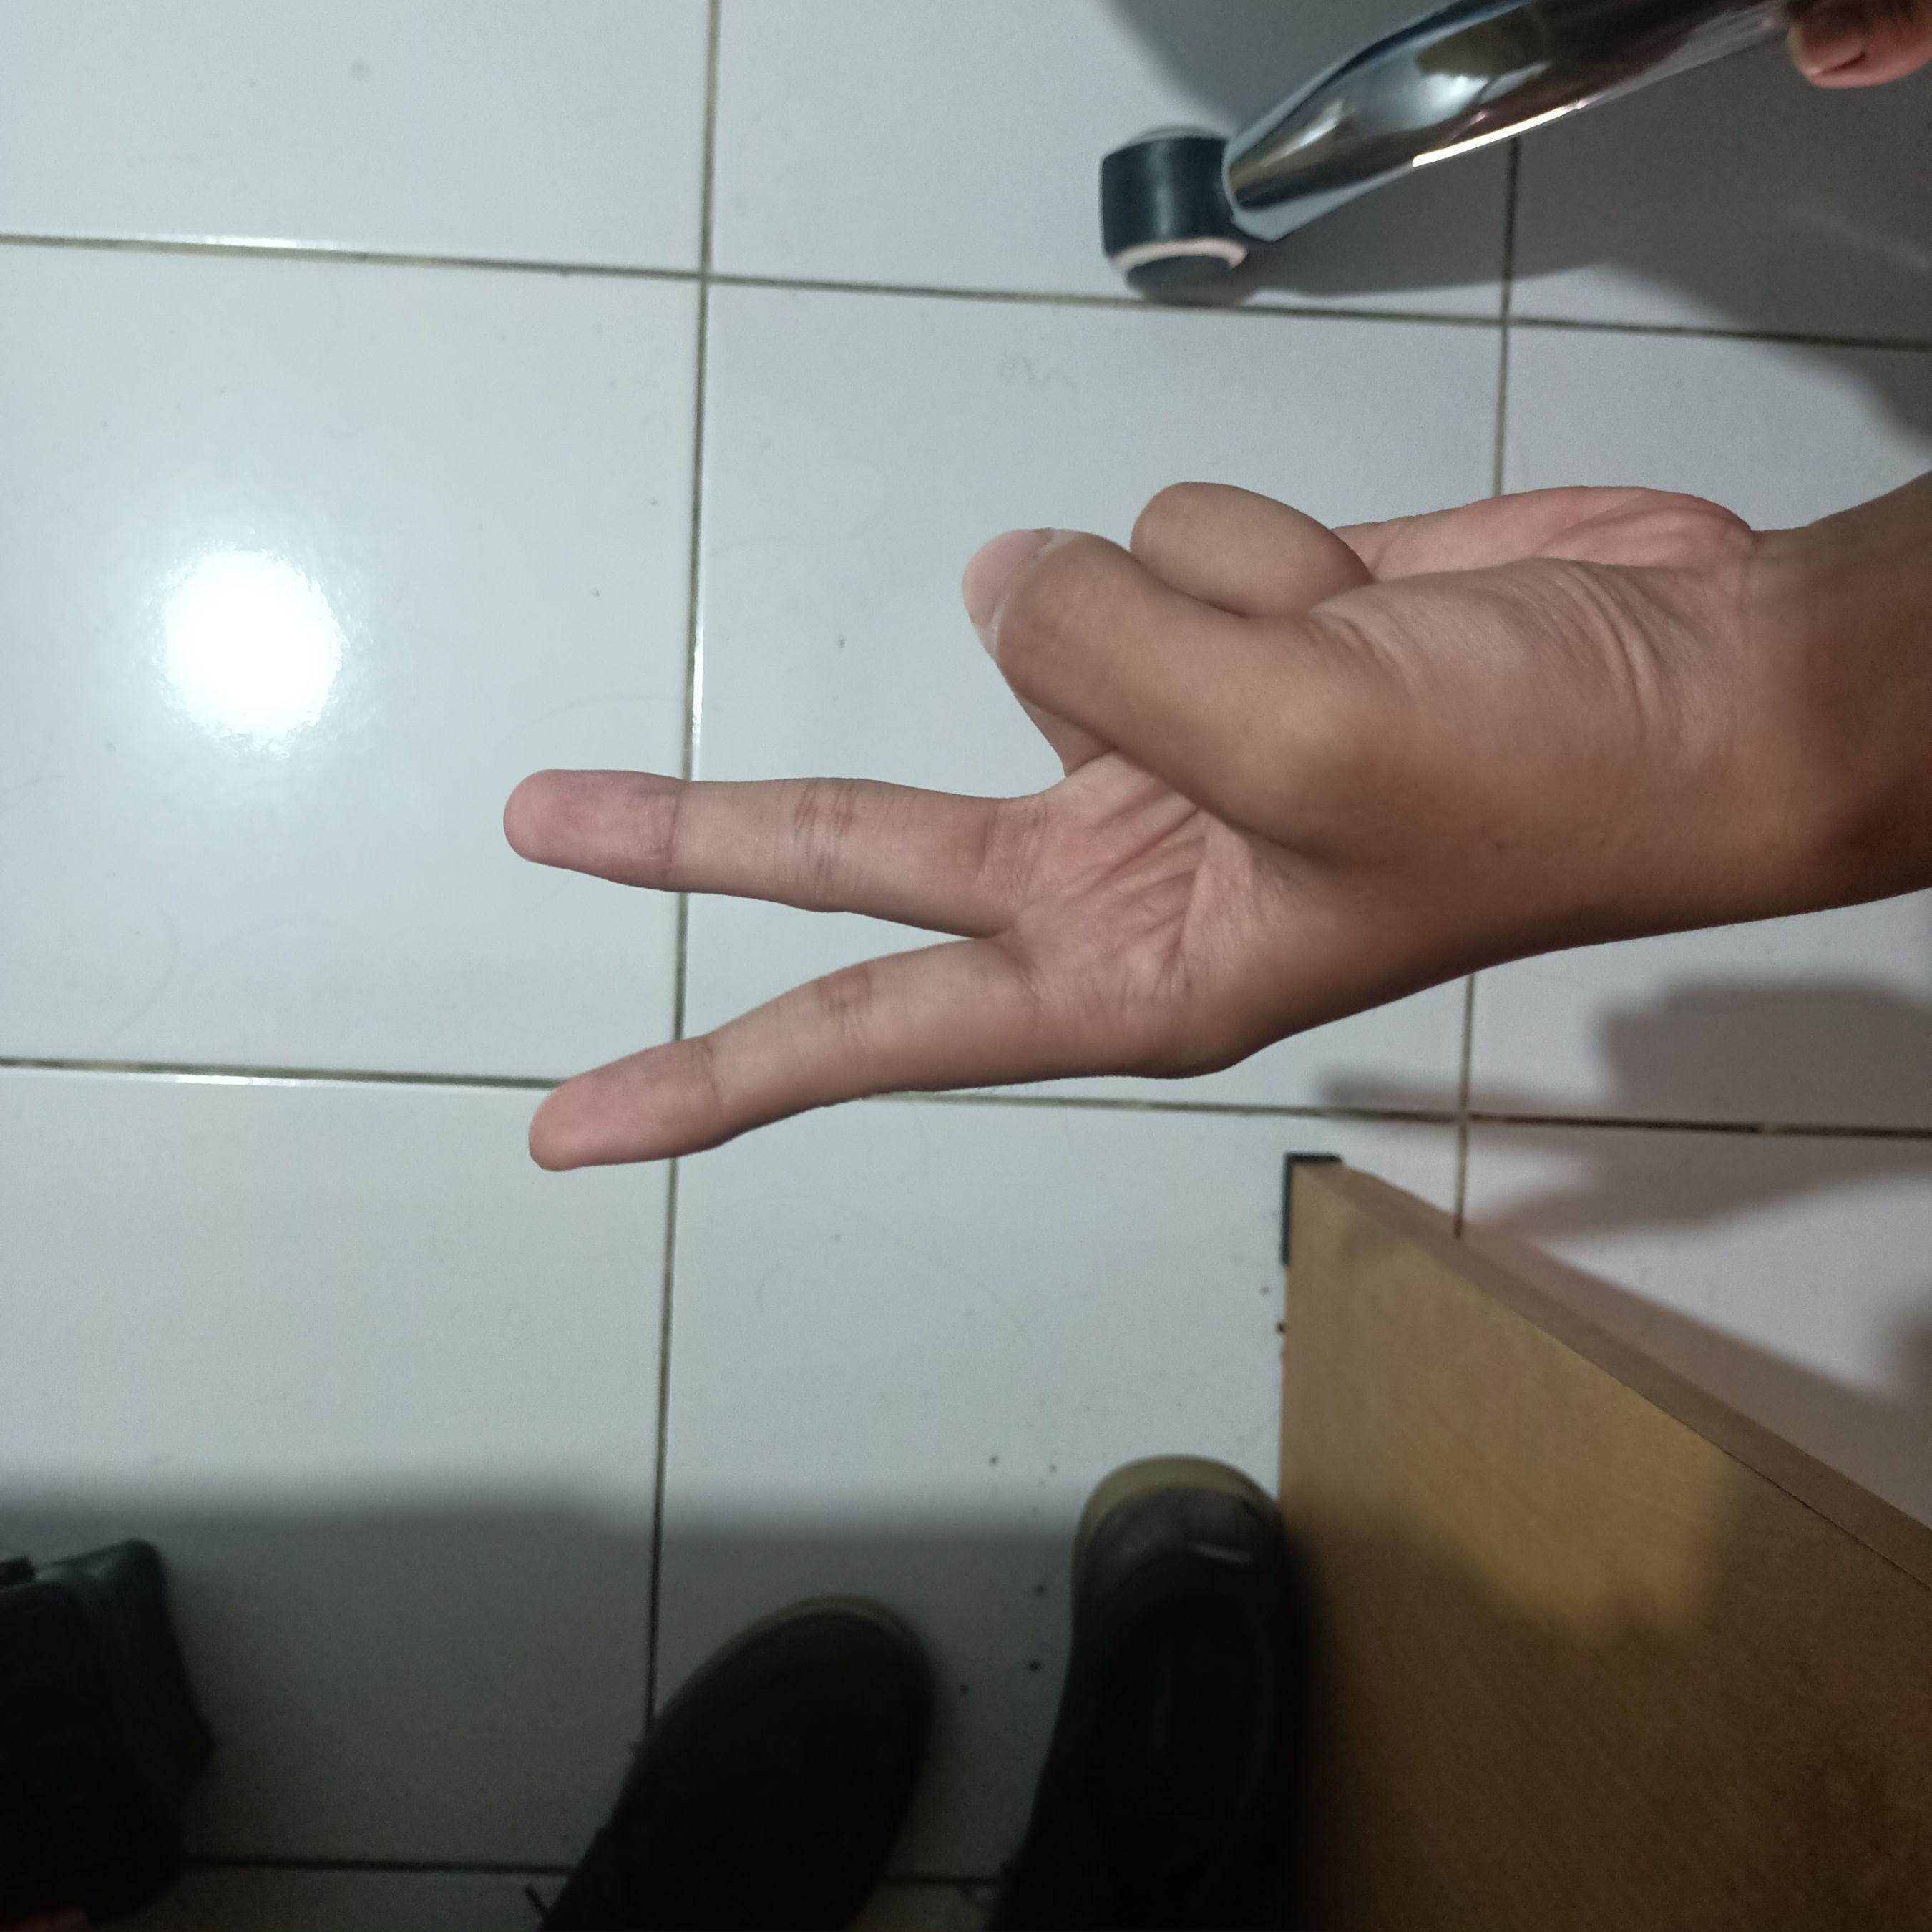scissors: (458, 446, 1771, 1194)
